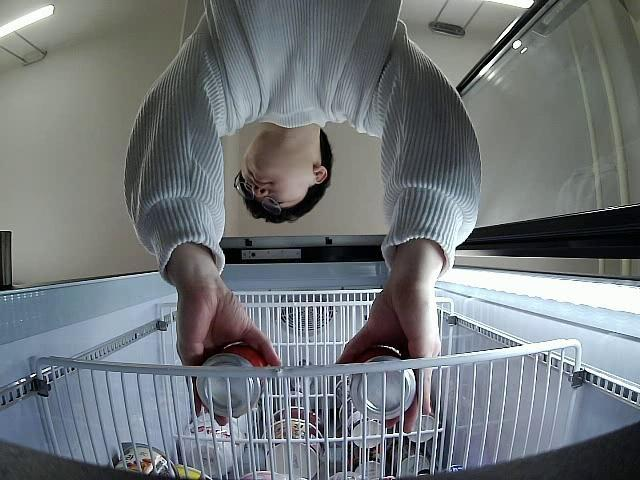11_cocaColaZero: (195, 343, 268, 416), (350, 346, 415, 422)
